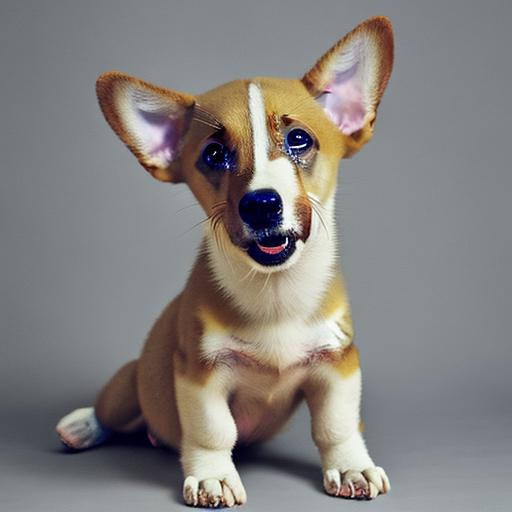eye: (283, 125, 317, 159), (196, 142, 233, 173)
